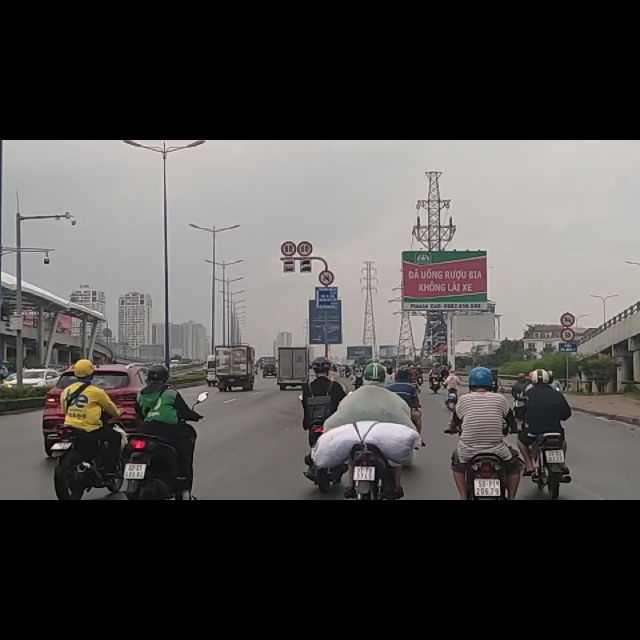bien_cam: (318, 230, 336, 260), (281, 179, 297, 207), (298, 179, 313, 205), (561, 332, 575, 358), (560, 307, 575, 331)
